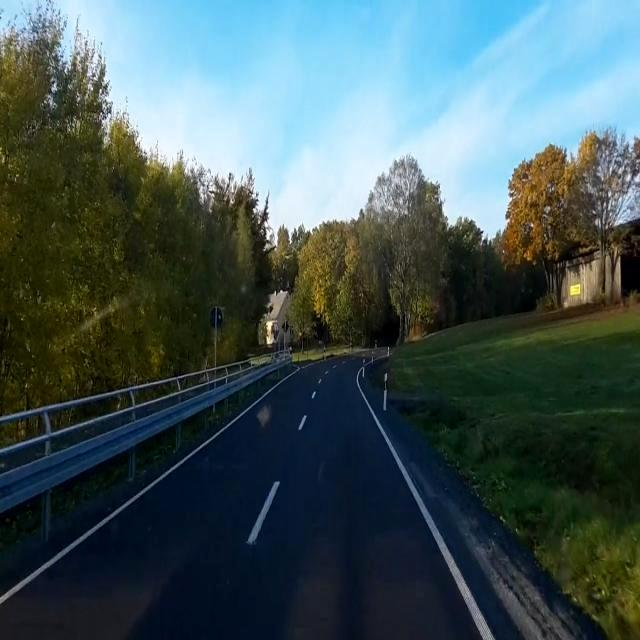lane: (1, 372, 292, 603), (359, 385, 495, 638), (246, 481, 279, 544), (298, 416, 306, 429)
road: (4, 357, 480, 639), (375, 398, 604, 639)
